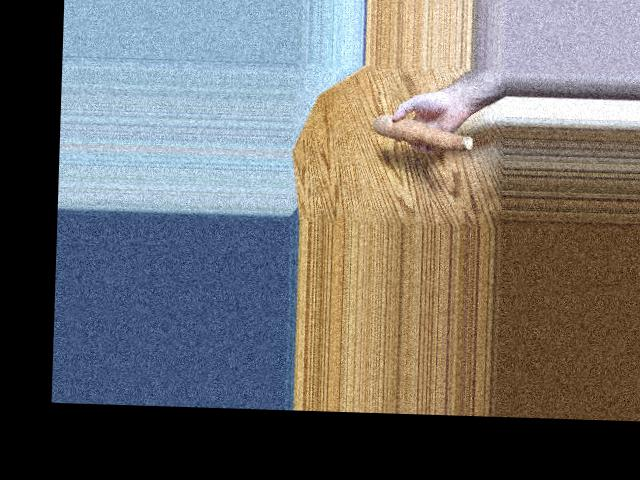sweet_potato: (365, 118, 470, 151)
